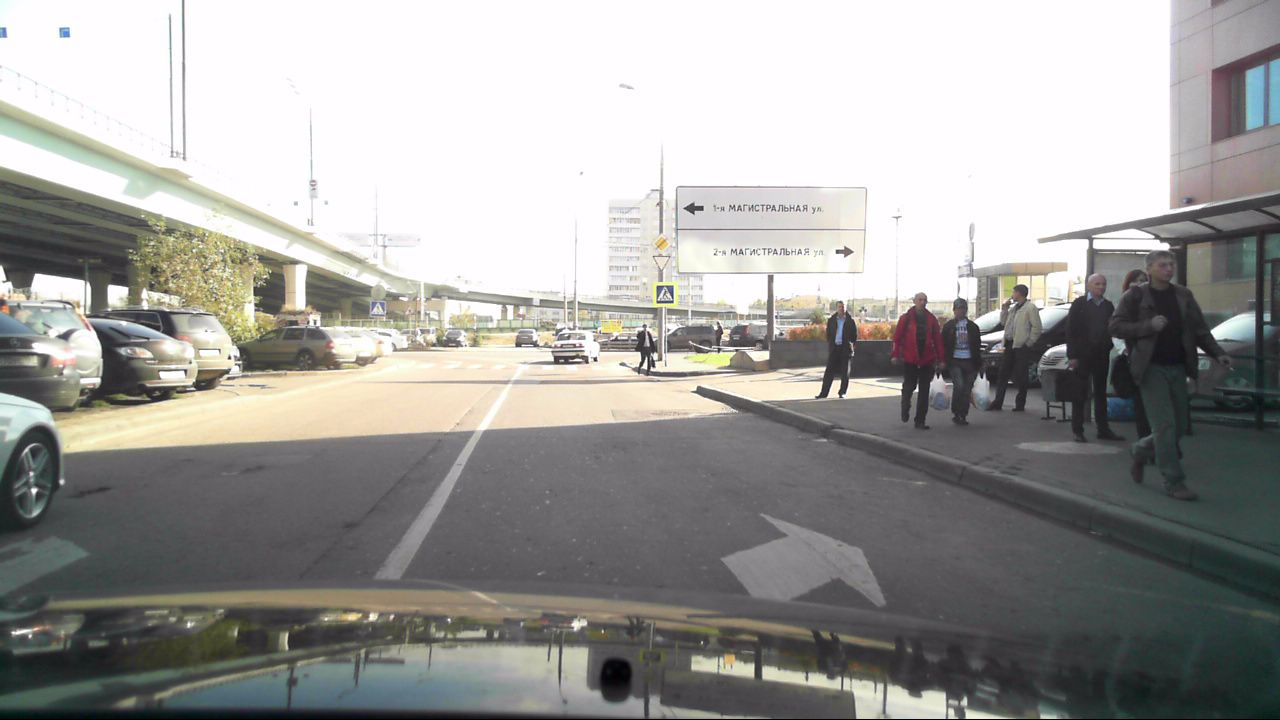main road: (651, 232, 672, 254)
